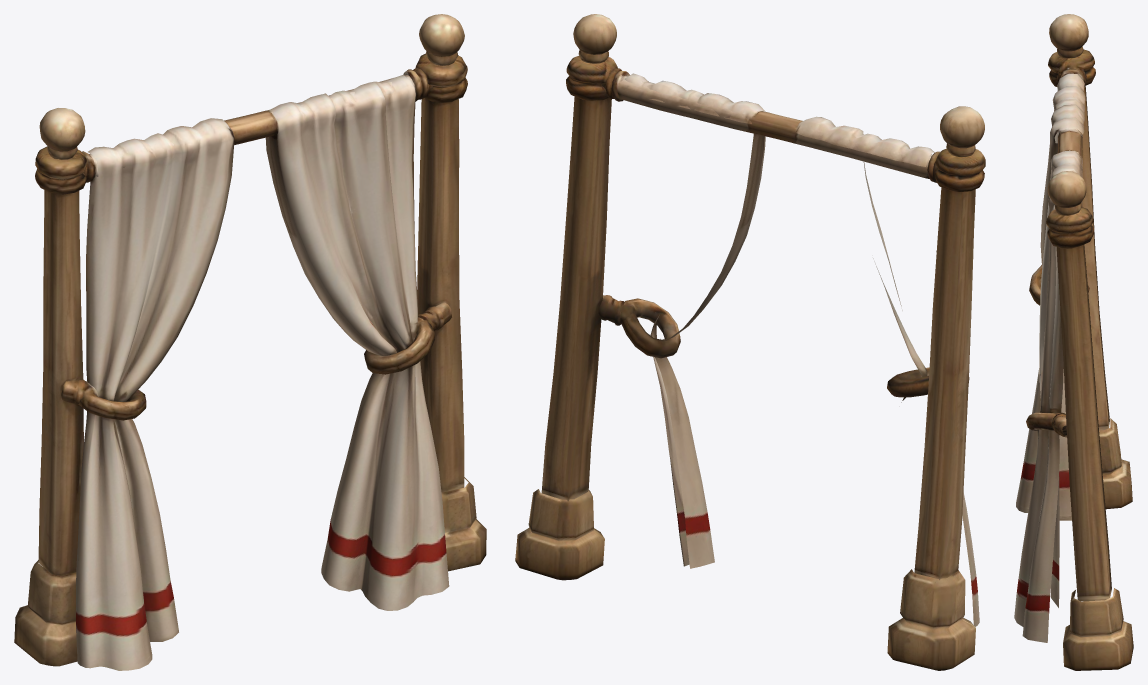
File: act1-a14-2-curtain-pair.glb
3 renders of one model, left to right at view 1: azimuth 30°, elevation 25°; view 2: azimuth 150°, elevation 25°; view 3: azimuth 270°, elevation 25°, orthographic. The views are drawn at different scales.
Parts seen in each view (by area): view 1: act1-a14-2-curtain-pair; view 2: act1-a14-2-curtain-pair; view 3: act1-a14-2-curtain-pair.
Part boxes in pixels (box(x1,y1,x2,y2)): act1-a14-2-curtain-pair: box(14, 14, 486, 670); act1-a14-2-curtain-pair: box(515, 14, 985, 670); act1-a14-2-curtain-pair: box(1014, 14, 1133, 670).
Bounding box in the file's own units: 4.32 × 5.1 × 1.15.
Materials: 1 (1 with a texture image).
